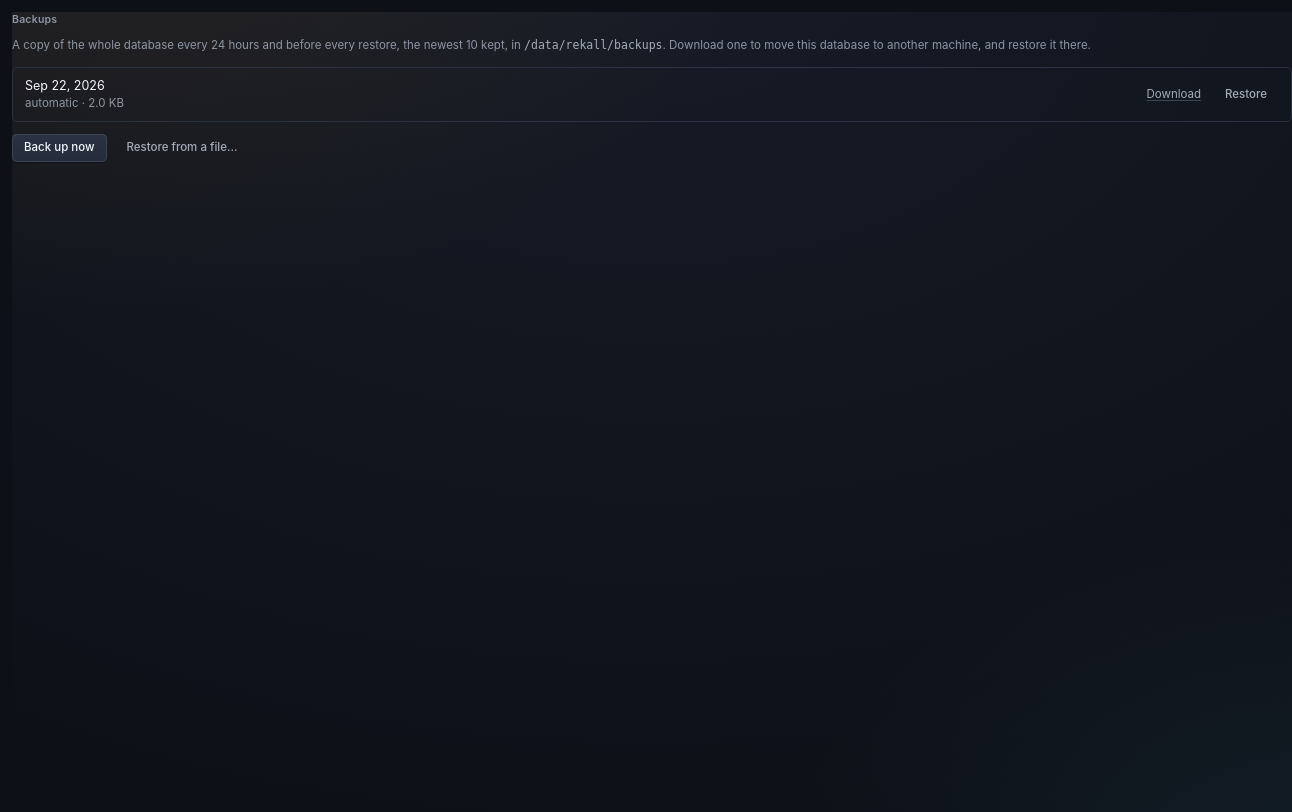
Test: the Backups section › lists the backups with a download link each, and takes one on demand
Expected: the list item with test id "backup-row" shows "automatic", [25, 96, 124, 110]
Click the button with test id "backup-now" at (59, 148), box [12, 134, 106, 162]
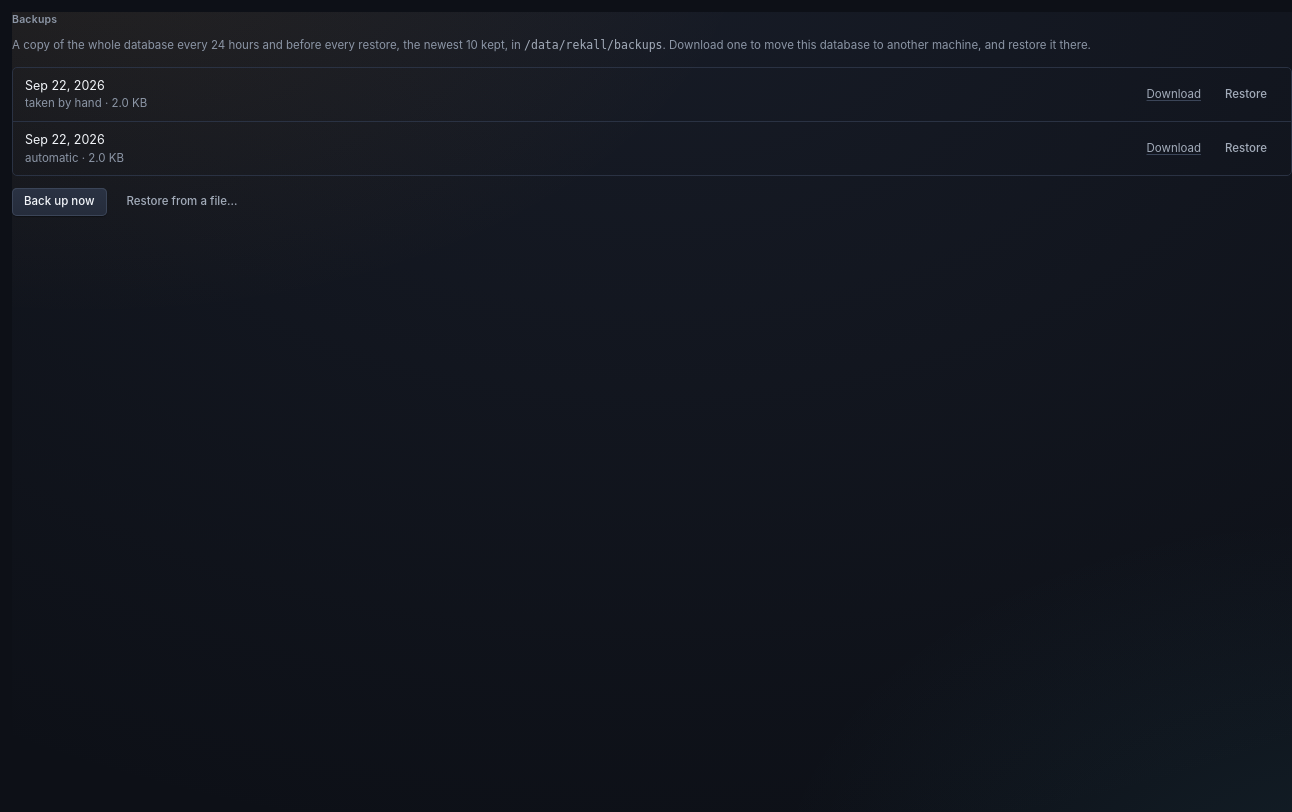
Expected: the number of list items with test id "backup-row" is 2, [13, 68, 1291, 122]; [13, 122, 1291, 175]
